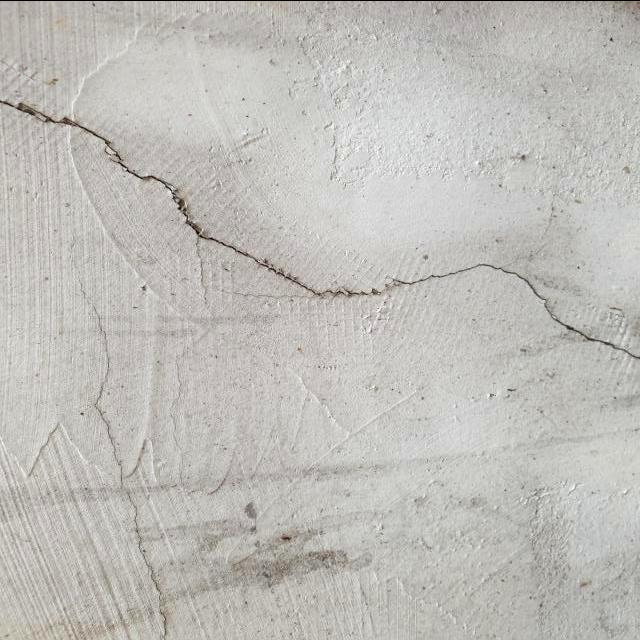SurfaceCrack: (1, 73, 639, 429)
